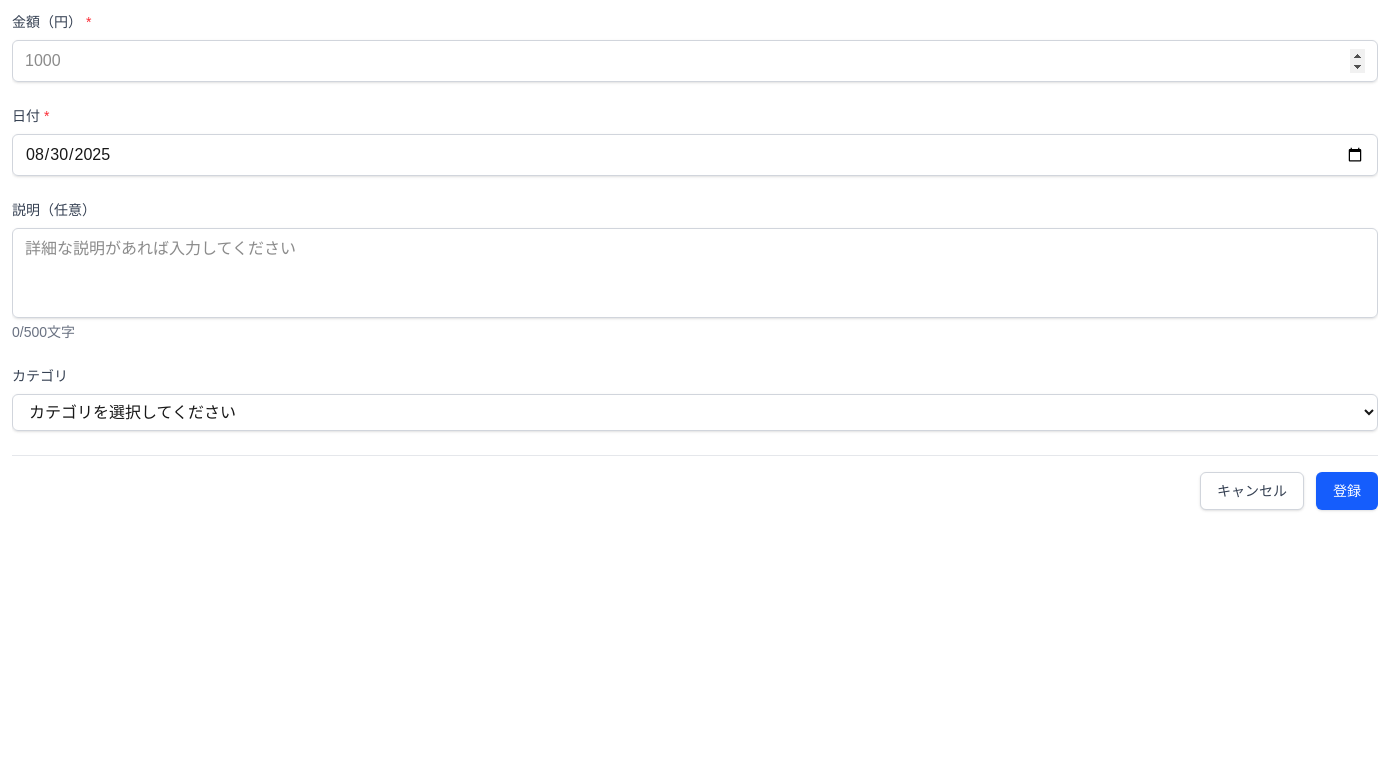
Test case: ExpenseForm › バリデーション › 必須フィールドが空の場合エラーが表示される
日付を空にして金額も0のままにする
Clear the date field labelled "日付 *": (695, 155) top-left (12, 134), bottom-right (1378, 176)
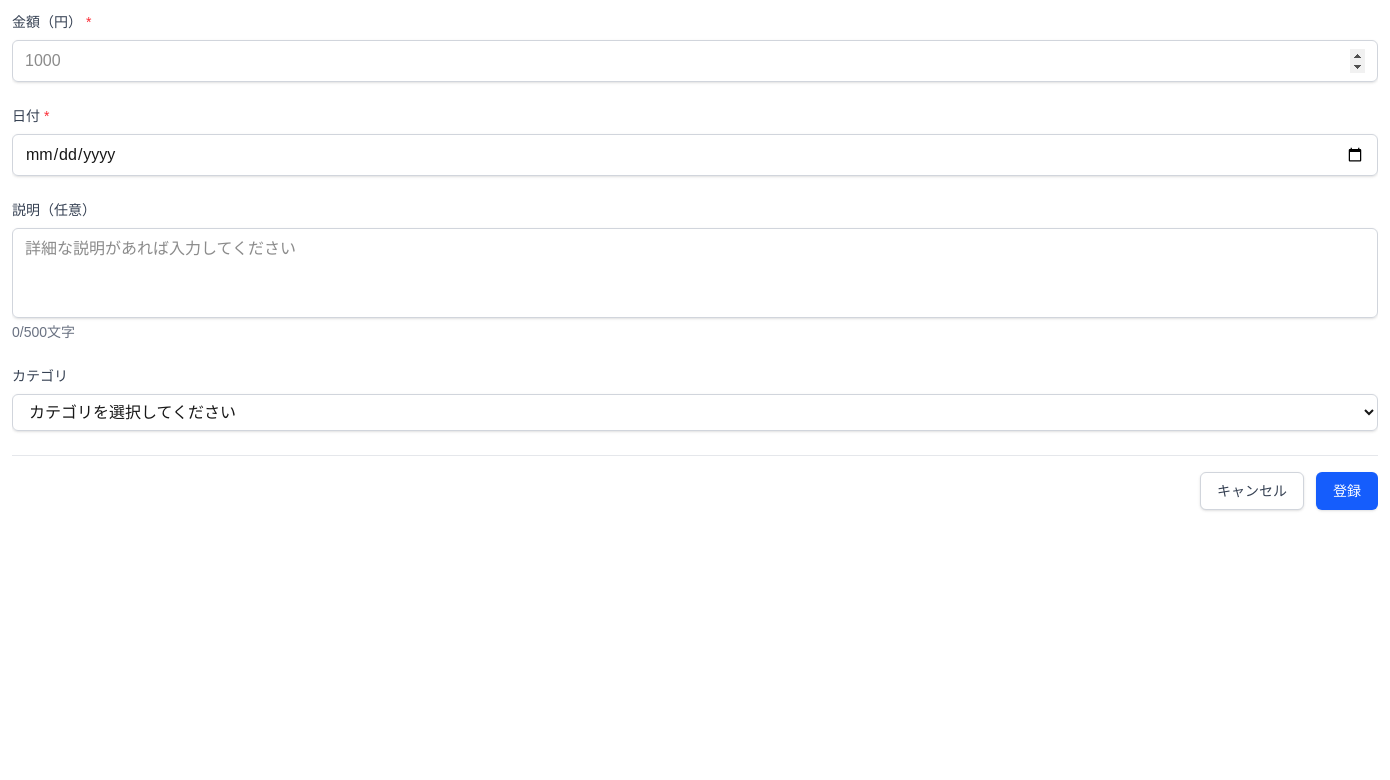
Click the button "登録": click(1347, 491) top-left (1316, 472), bottom-right (1378, 510)
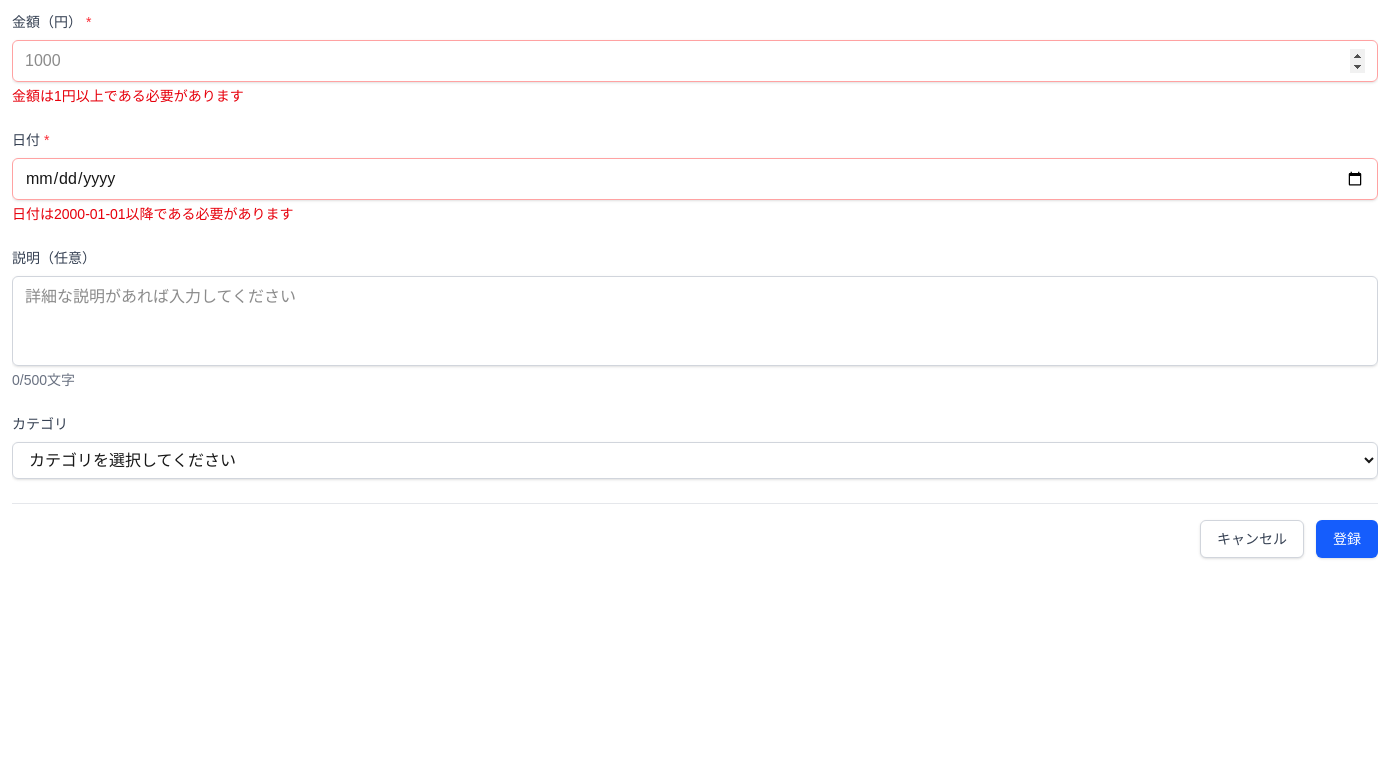
Expected: the text "金額は1円以上である必要があります" is shown, top-left (12, 88), bottom-right (244, 104)
Expected: the text "日付は2000-01-01以降である必要があります" is shown, top-left (12, 206), bottom-right (294, 222)
